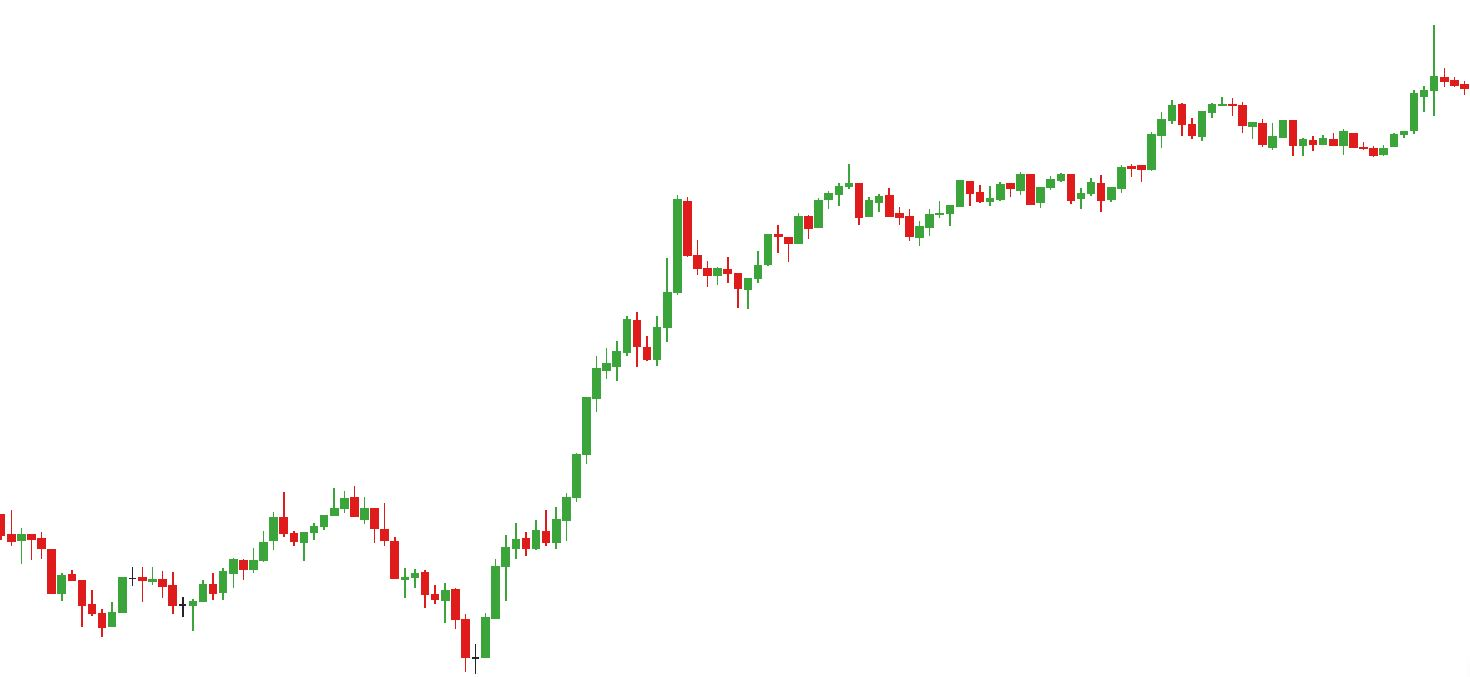sell: (279, 482, 362, 541)
